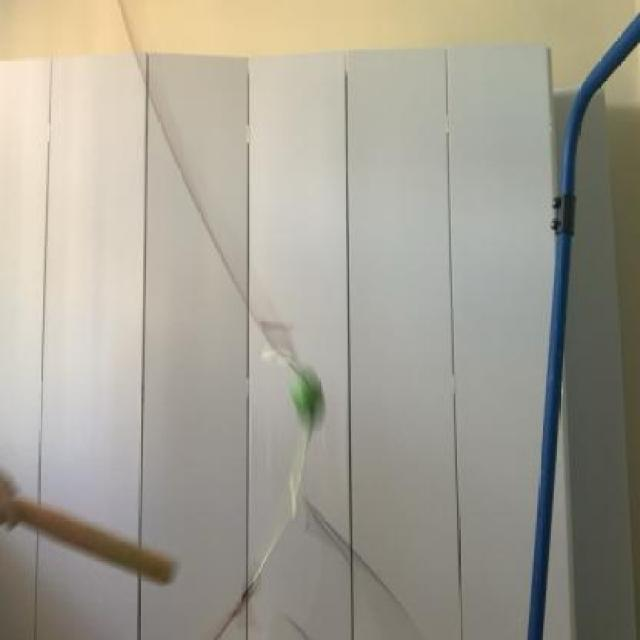baseball: (286, 347, 322, 439)
